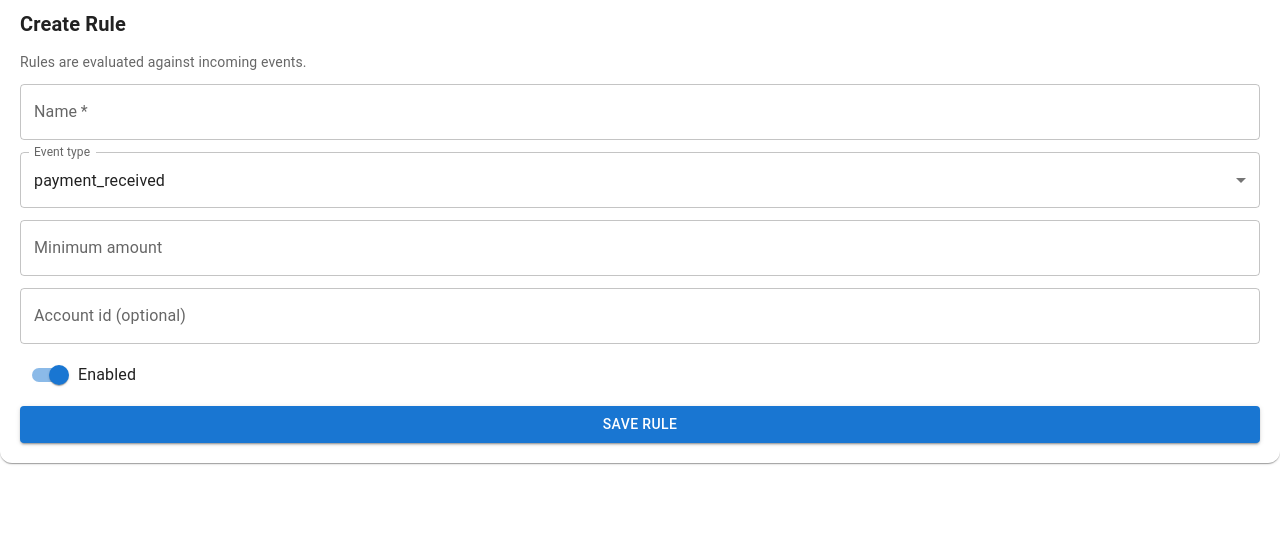
Test case: RuleForm › shows success message after rule is created
Type "Alert Rule" into the field labelled "Name *" at point(640, 112), box x1=20 y1=84 x2=1260 y2=140
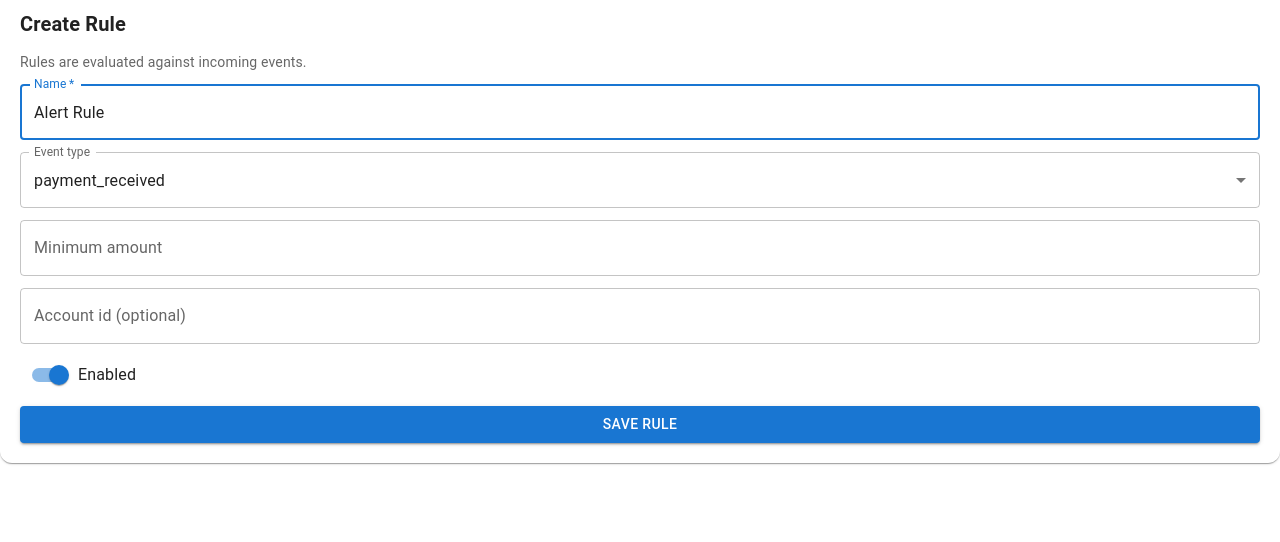
Submit the form named "save rule"
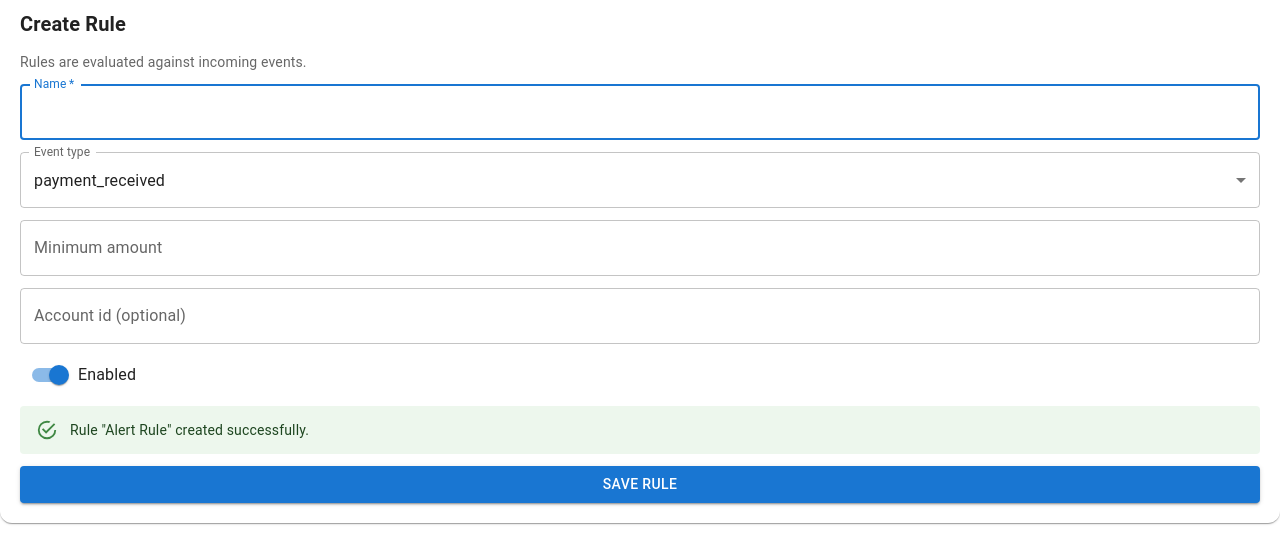
Check: the text "Rule \"Alert Rule\" created successfully." is shown, box x1=70 y1=422 x2=309 y2=438
